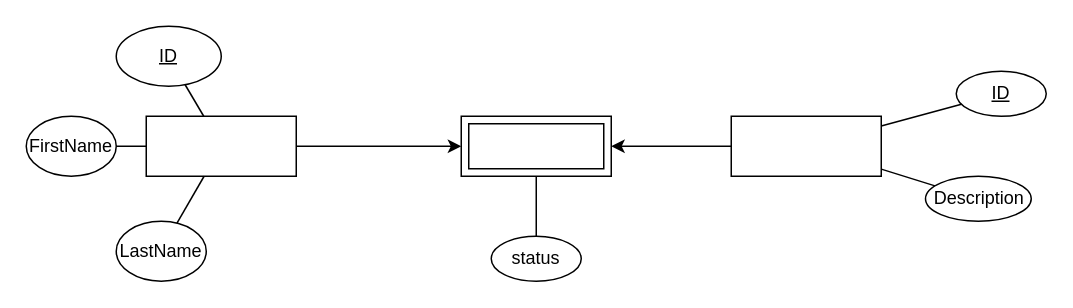
Some shapes in this 1073 by 308 pixel diagram are drawn without their labels. Here are the shapes that lost their labels. From the top down, the centre of each, then its label:
(x=220, y=145): User
(x=535, y=145): Entity
(x=805, y=145): Course
